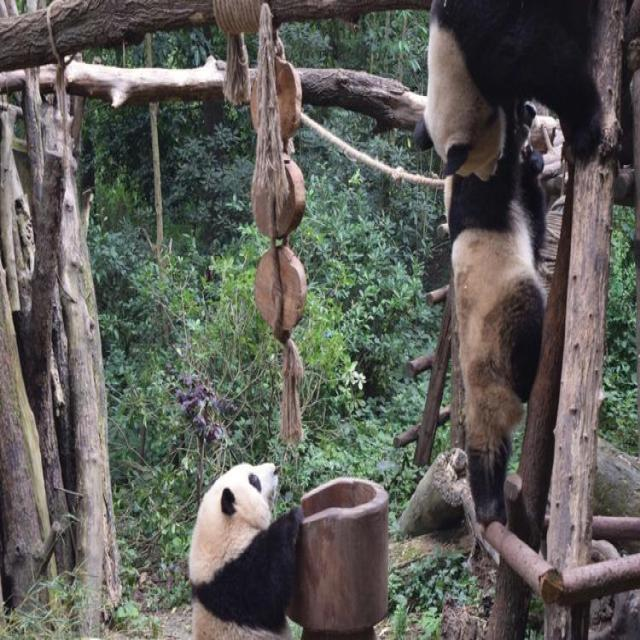panda: (397, 0, 640, 521), (181, 453, 332, 640)
